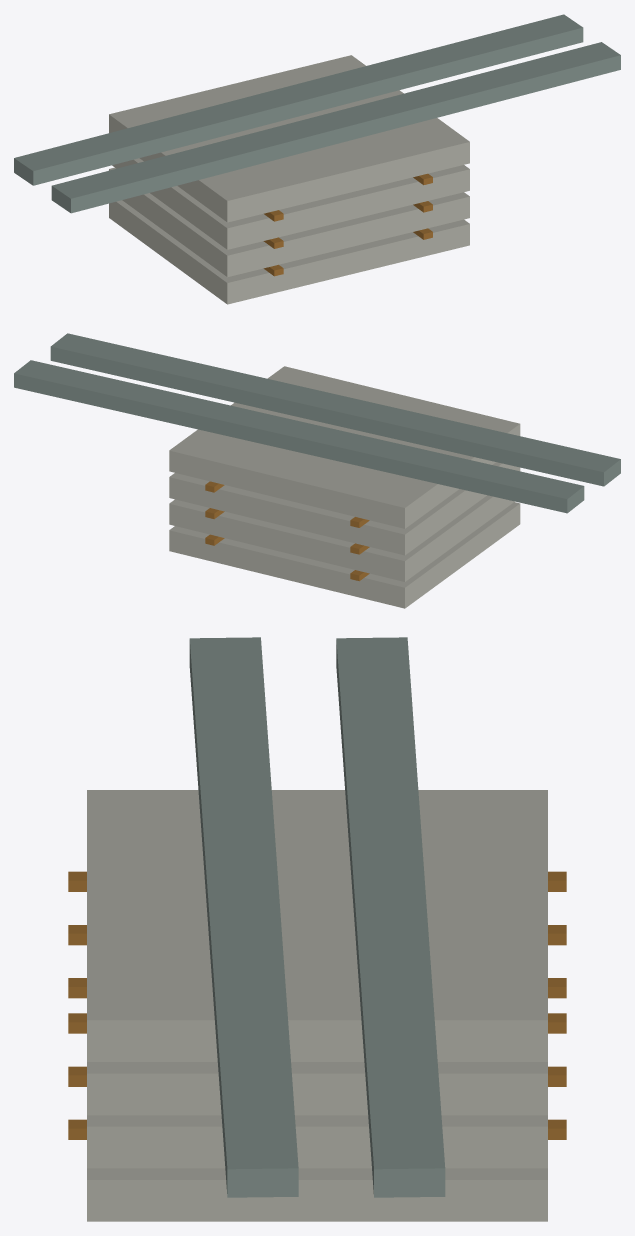
The model's file is SM_TraviesasSueltas_v3_ConCarriles_LOD1.fbx.
The picture shows the model from 3 angles, top to bottom: view 1: azimuth 30°, elevation 25°; view 2: azimuth 150°, elevation 25°; view 3: azimuth 270°, elevation 25°; orthographic projection. The views are drawn at different scales.
Visible parts, largest first — view 1: SM_traviesas_sueltas_v3_LOD1; view 2: SM_traviesas_sueltas_v3_LOD1; view 3: SM_traviesas_sueltas_v3_LOD1.
Boxes of the visible parts, x1,y1,x2,y2 form: SM_traviesas_sueltas_v3_LOD1: [14, 14, 620, 304]; SM_traviesas_sueltas_v3_LOD1: [14, 333, 620, 608]; SM_traviesas_sueltas_v3_LOD1: [68, 637, 566, 1221].
Size of the model in its own units: 6.01 by 1.21 by 2.38.
